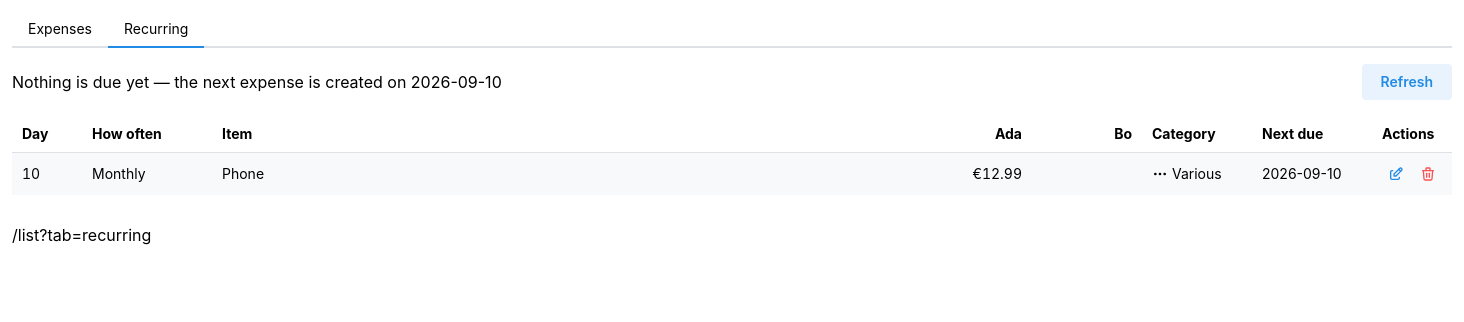
Scenario: ExpensesPage › goes back to a bare /list rather than leaving a stale query
Click the tab "Expenses": (60, 30) [12, 12, 108, 48]
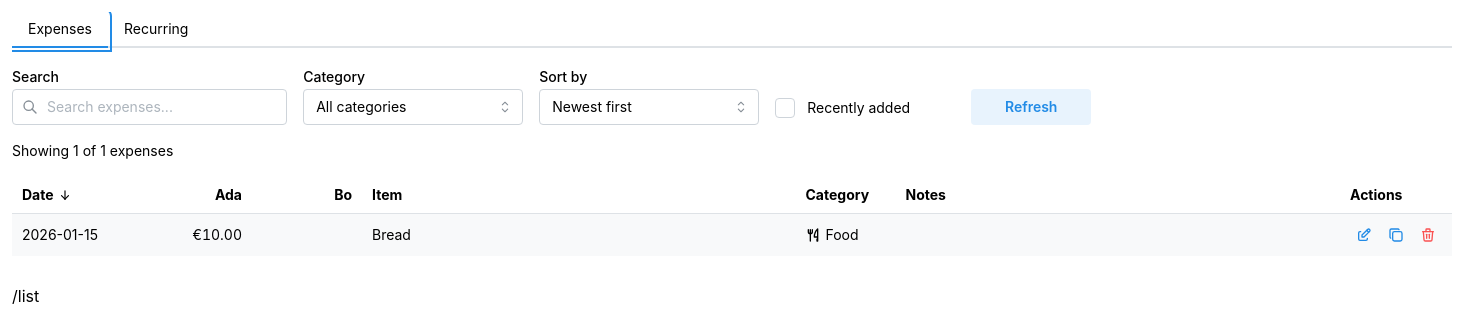
expect the text with test id "location" reads "/list": met, box [12, 286, 39, 306]
expect the text with test id "location" no longer shows "tab=recurring": met, box [12, 286, 39, 306]
